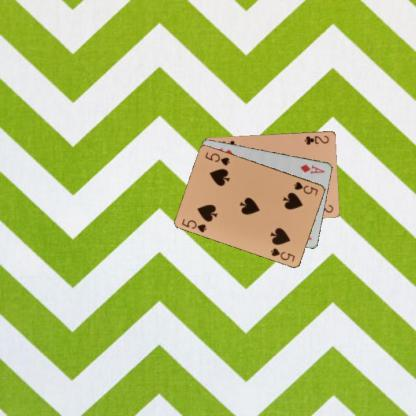2c: (302, 133, 330, 145)
5s: (291, 179, 320, 197), (179, 216, 208, 234)
Ad: (297, 161, 326, 175)
